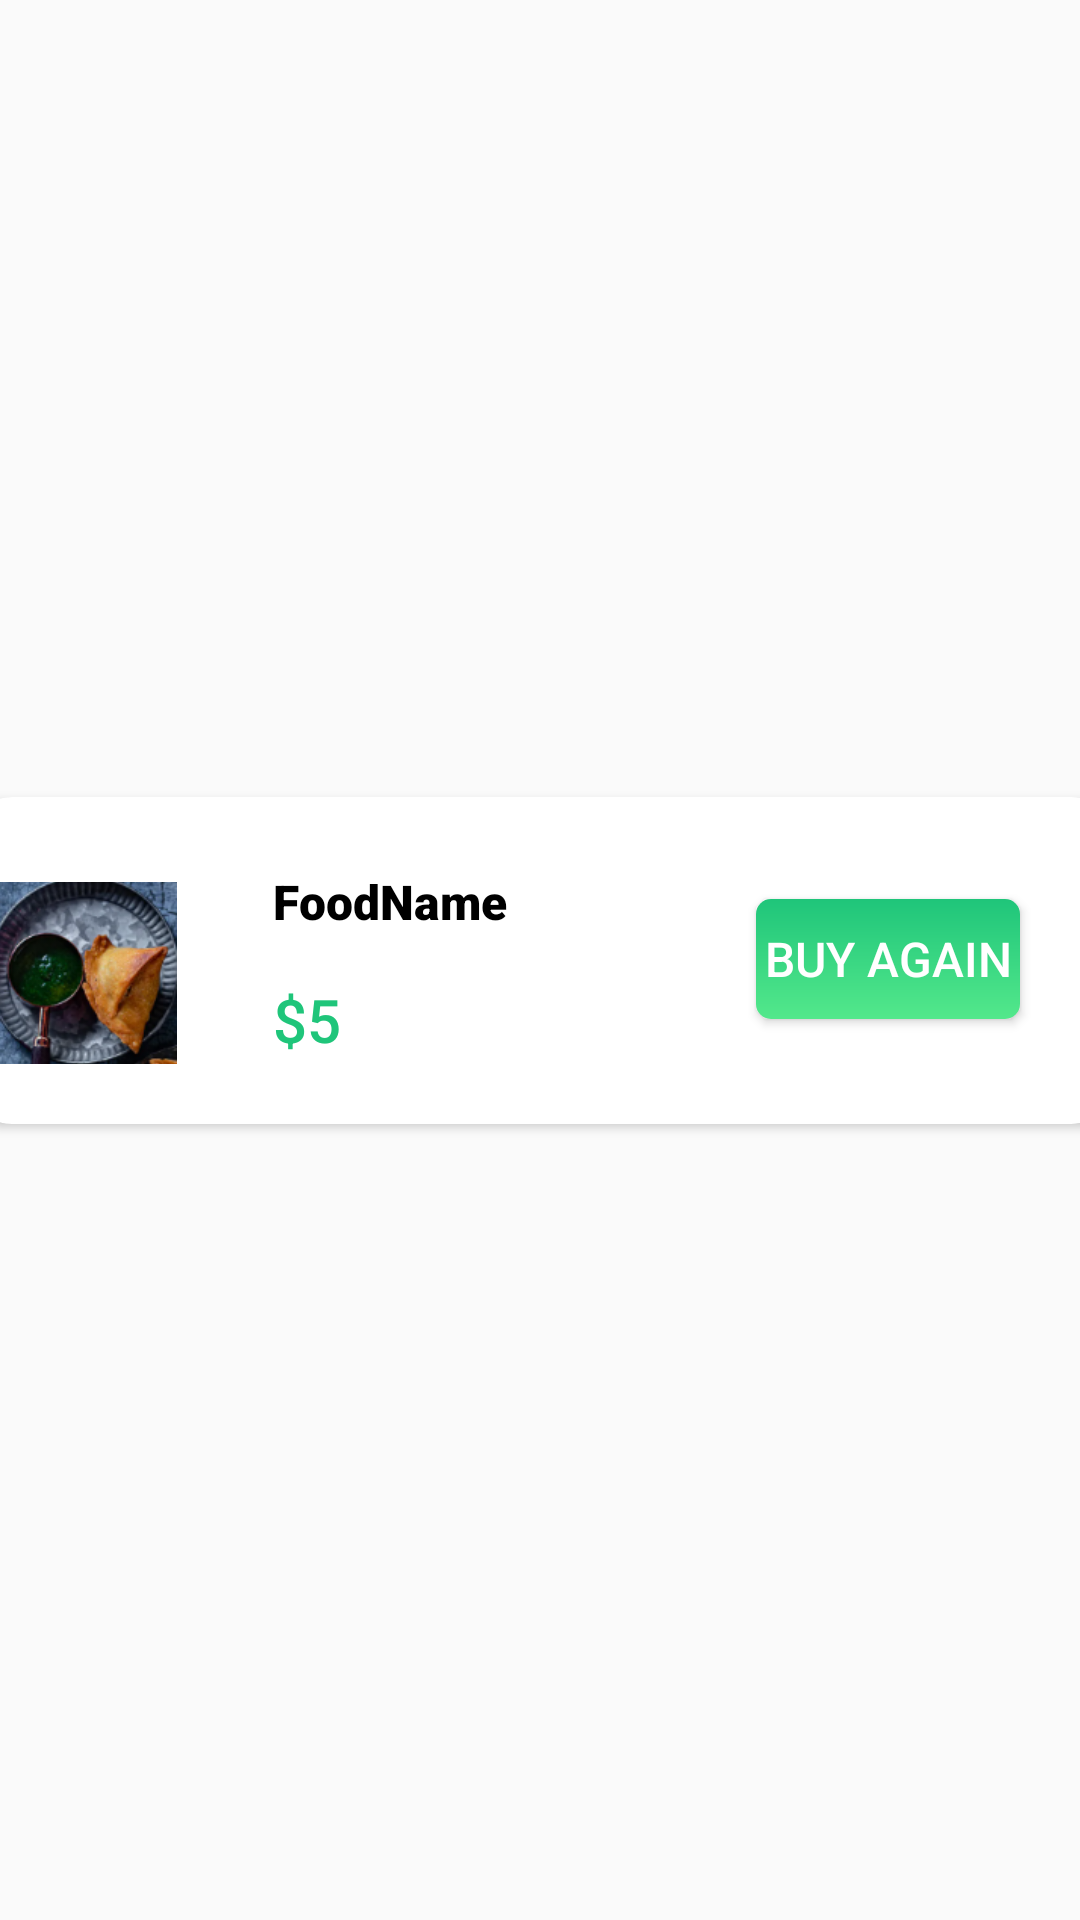

Screen size 1080*1920. Icon name, then its center in pixels as [x,y]:
samosa: [88,973]
